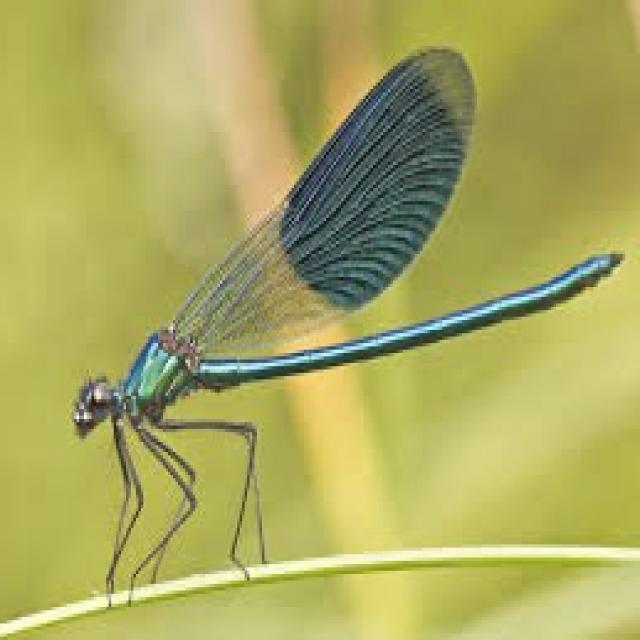dragonfly: (74, 49, 620, 591)
